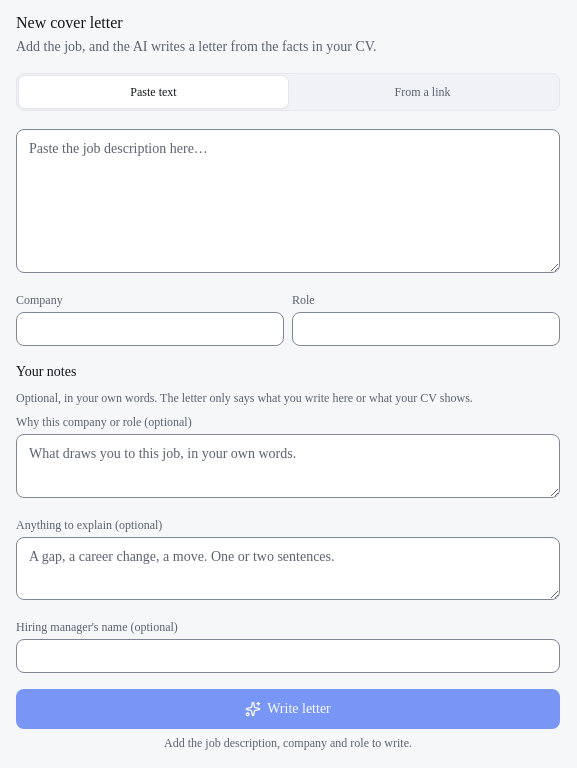
Test: CoverLetterPanel: new letter › imports the posting from a link and fills company and role
Click the radio button labelled "From a link".
click(422, 92)  # box [288,76,557,108]
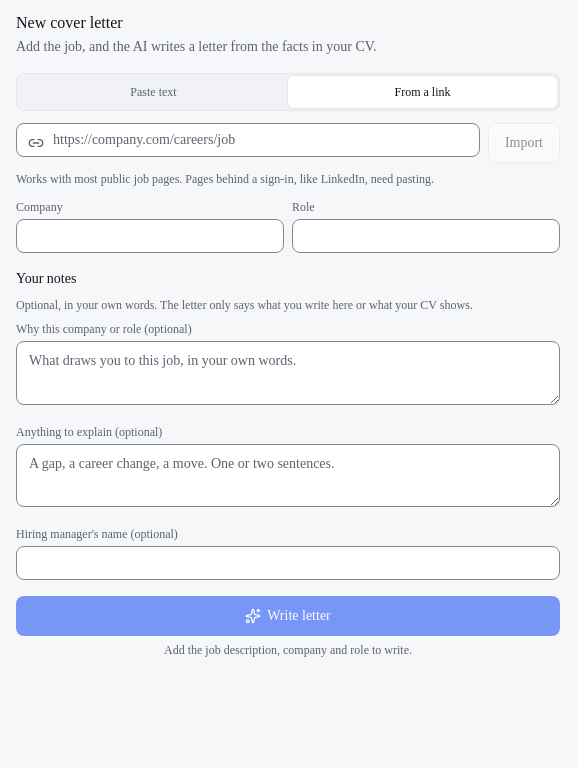
Type "https://jobs.example.com/1" into the field named "Job posting link".
click(248, 140); type("https://jobs.example.com/1")  # box [16,123,480,157]
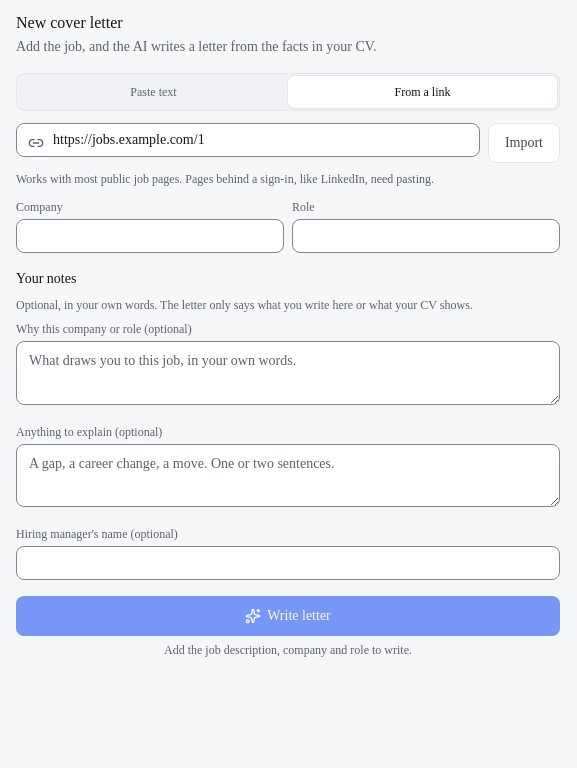
Click the button "Import".
click(524, 143)  # box [488,123,560,163]
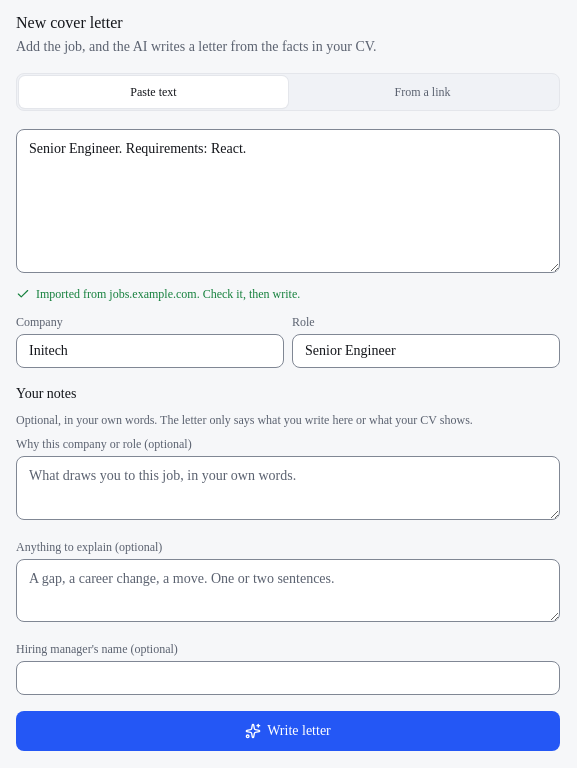
expect the text box named "job description" holds "Senior Engineer. Requirements: React.": met, box [16,129,560,273]
expect the field labelled "Company" holds "Initech": met, box [16,334,284,368]
expect the field labelled "Role" holds "Senior Engineer": met, box [292,334,560,368]
